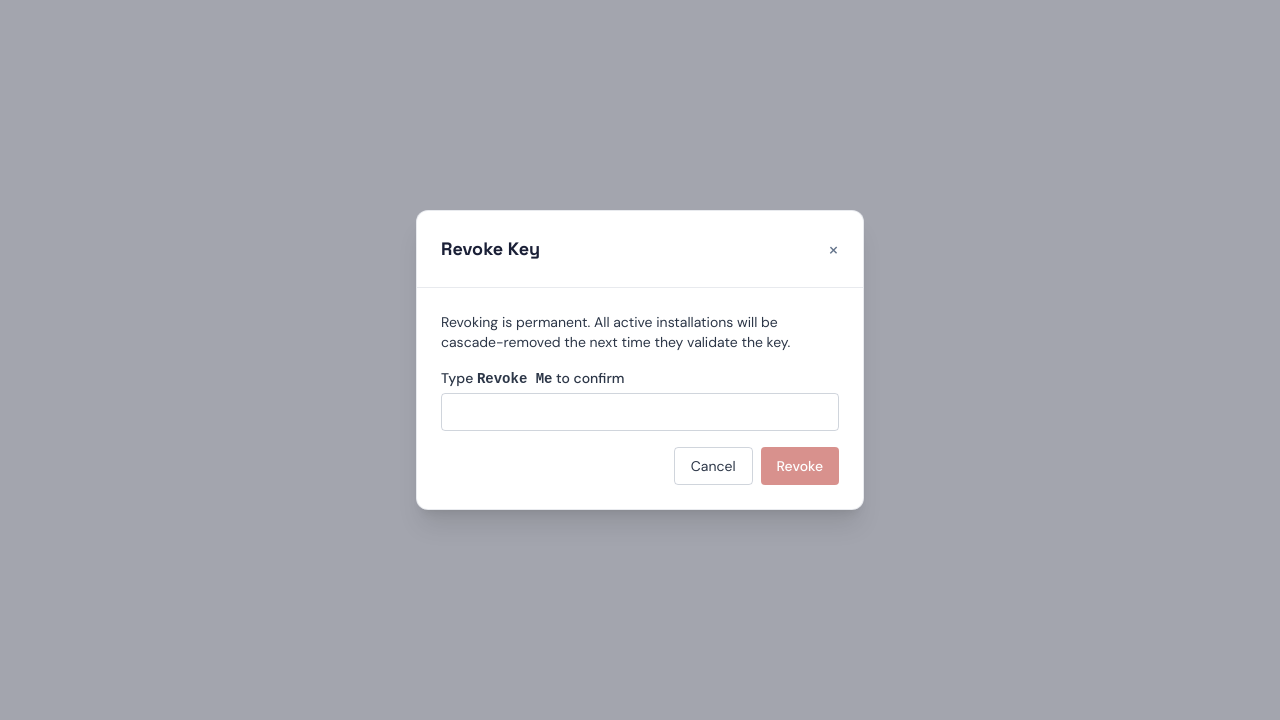
Scenario: ConfirmRevokeModal › disables the revoke button until the user types the key name
Expected: the button "Revoke" is disabled, [760, 447, 839, 485]
Type "Revoke Me" into the field labelled "Type Revoke Me to confirm" at (640, 412), box [441, 393, 839, 431]
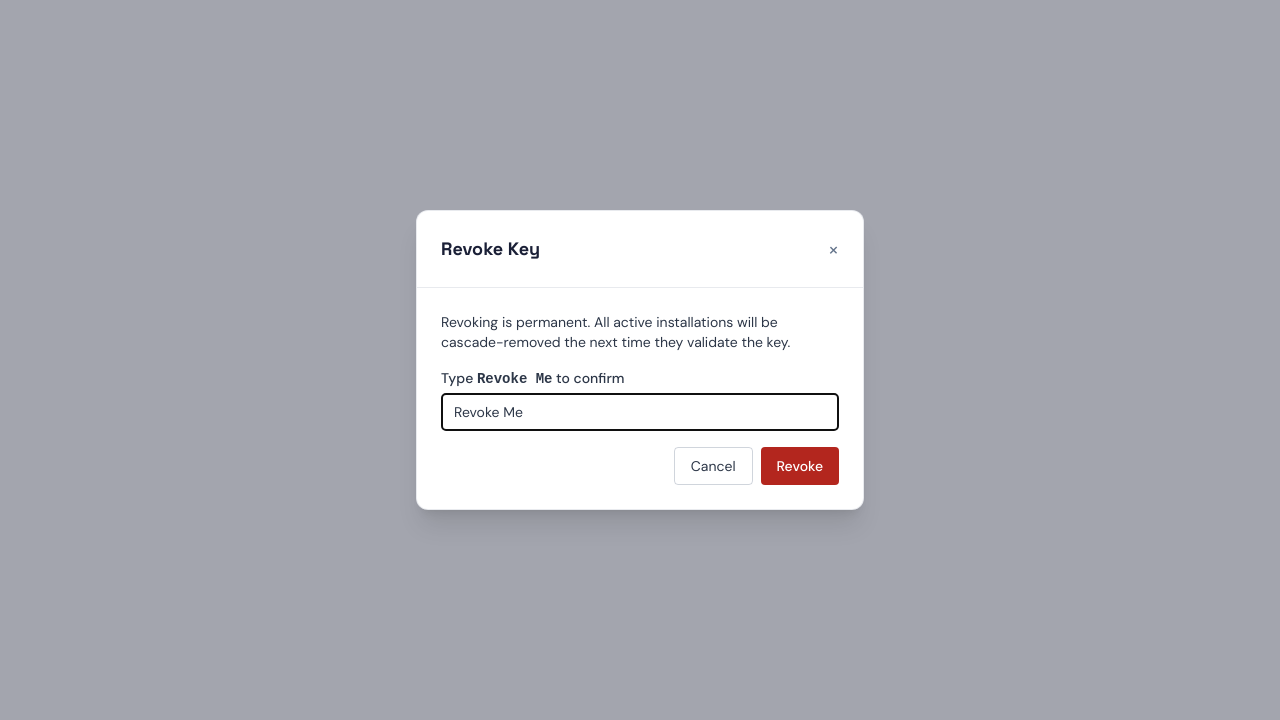
Now the button "Revoke" is enabled, box [760, 447, 839, 485]
